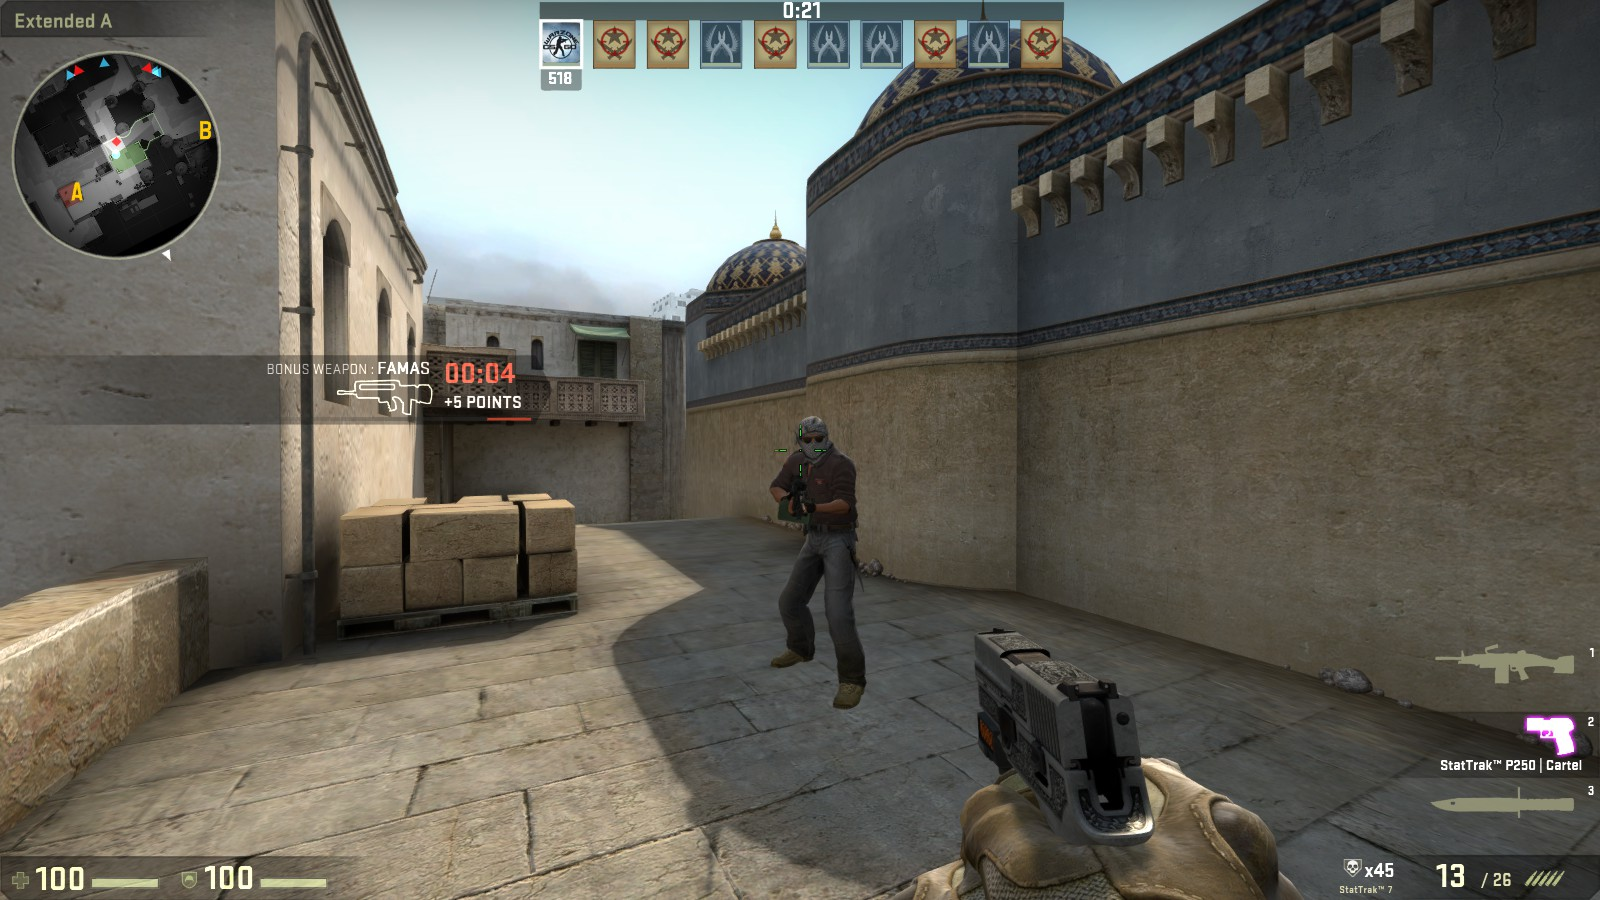t: (769, 416, 877, 711)
th: (792, 414, 832, 464)
